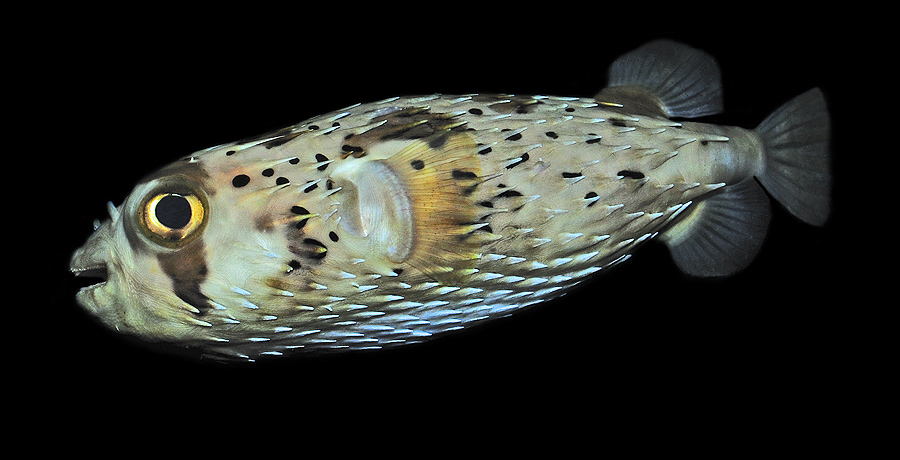Diodon_holocanthus: (47, 36, 850, 376)
